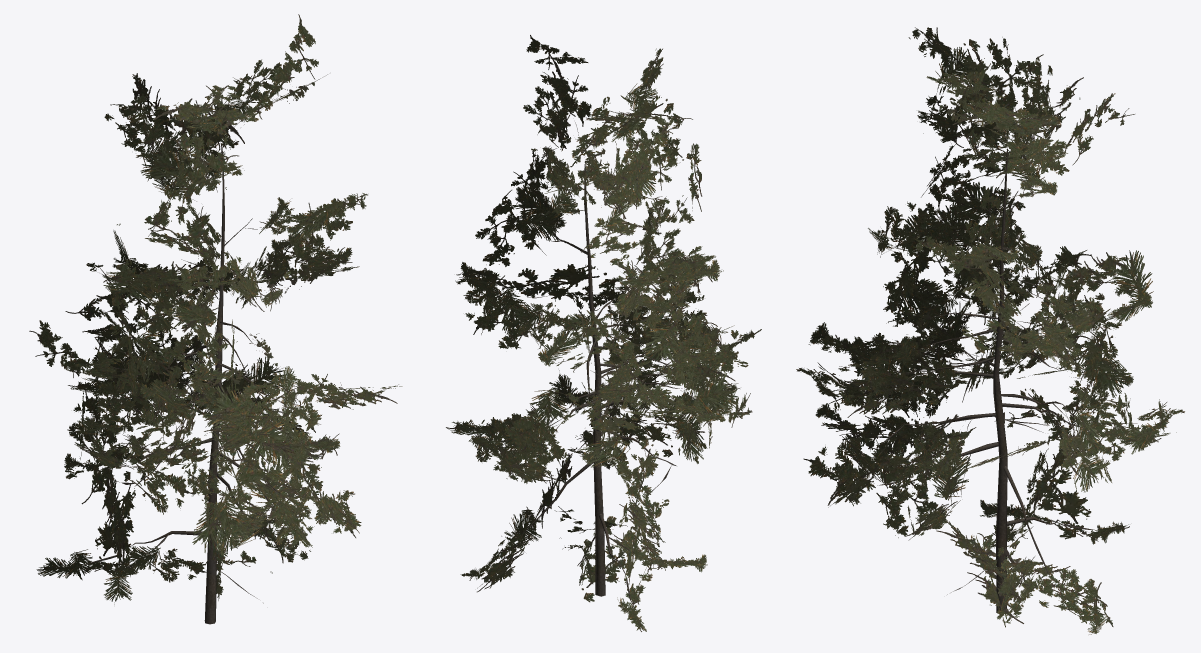
3 renders of one model, left to right at view 1: azimuth 30°, elevation 25°; view 2: azimuth 150°, elevation 25°; view 3: azimuth 270°, elevation 25°, orthographic. The views are drawn at different scales.
Visible parts, largest first — view 1: pine_sapling_medium__b_lod2; view 2: pine_sapling_medium__b_lod2; view 3: pine_sapling_medium__b_lod2.
Part boxes in pixels (bbox=[...]): pine_sapling_medium__b_lod2: bbox=[29, 14, 402, 624]; pine_sapling_medium__b_lod2: bbox=[446, 35, 761, 631]; pine_sapling_medium__b_lod2: bbox=[796, 27, 1184, 634].
Bounding box in the file's own units: 4.93 × 9.21 × 5.41.
Materials: 2 (2 with a texture image).
